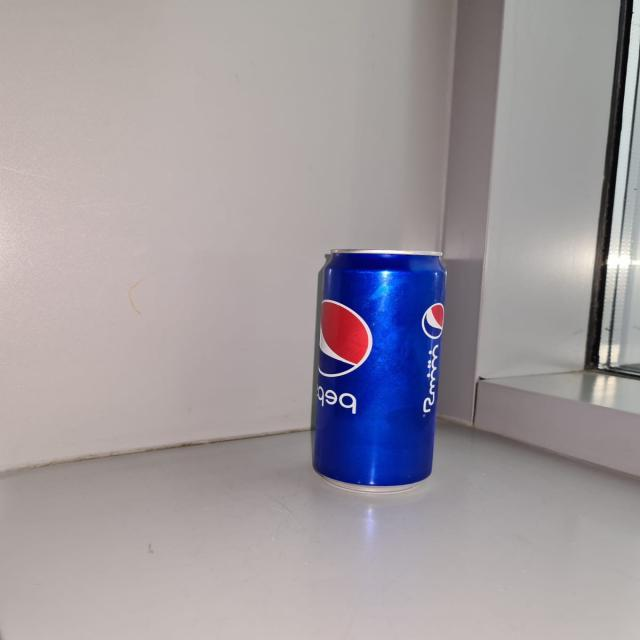can: (302, 245, 456, 490)
